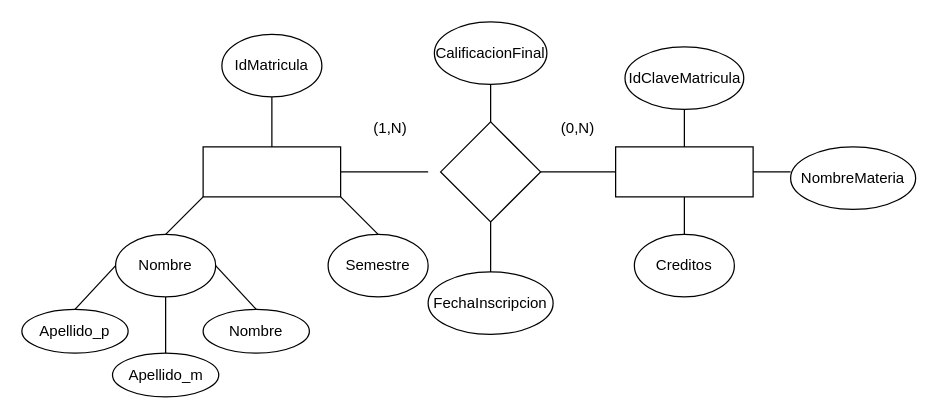
Some shapes in this 938 by 419 pixel diagram are drawn without their labels. The box of each missing label's shape, as (x1, y1, x2, y2) in pixels:
Alumno: (202, 146, 341, 197)
Inscribe: (439, 121, 541, 222)
Materia: (614, 146, 753, 197)
